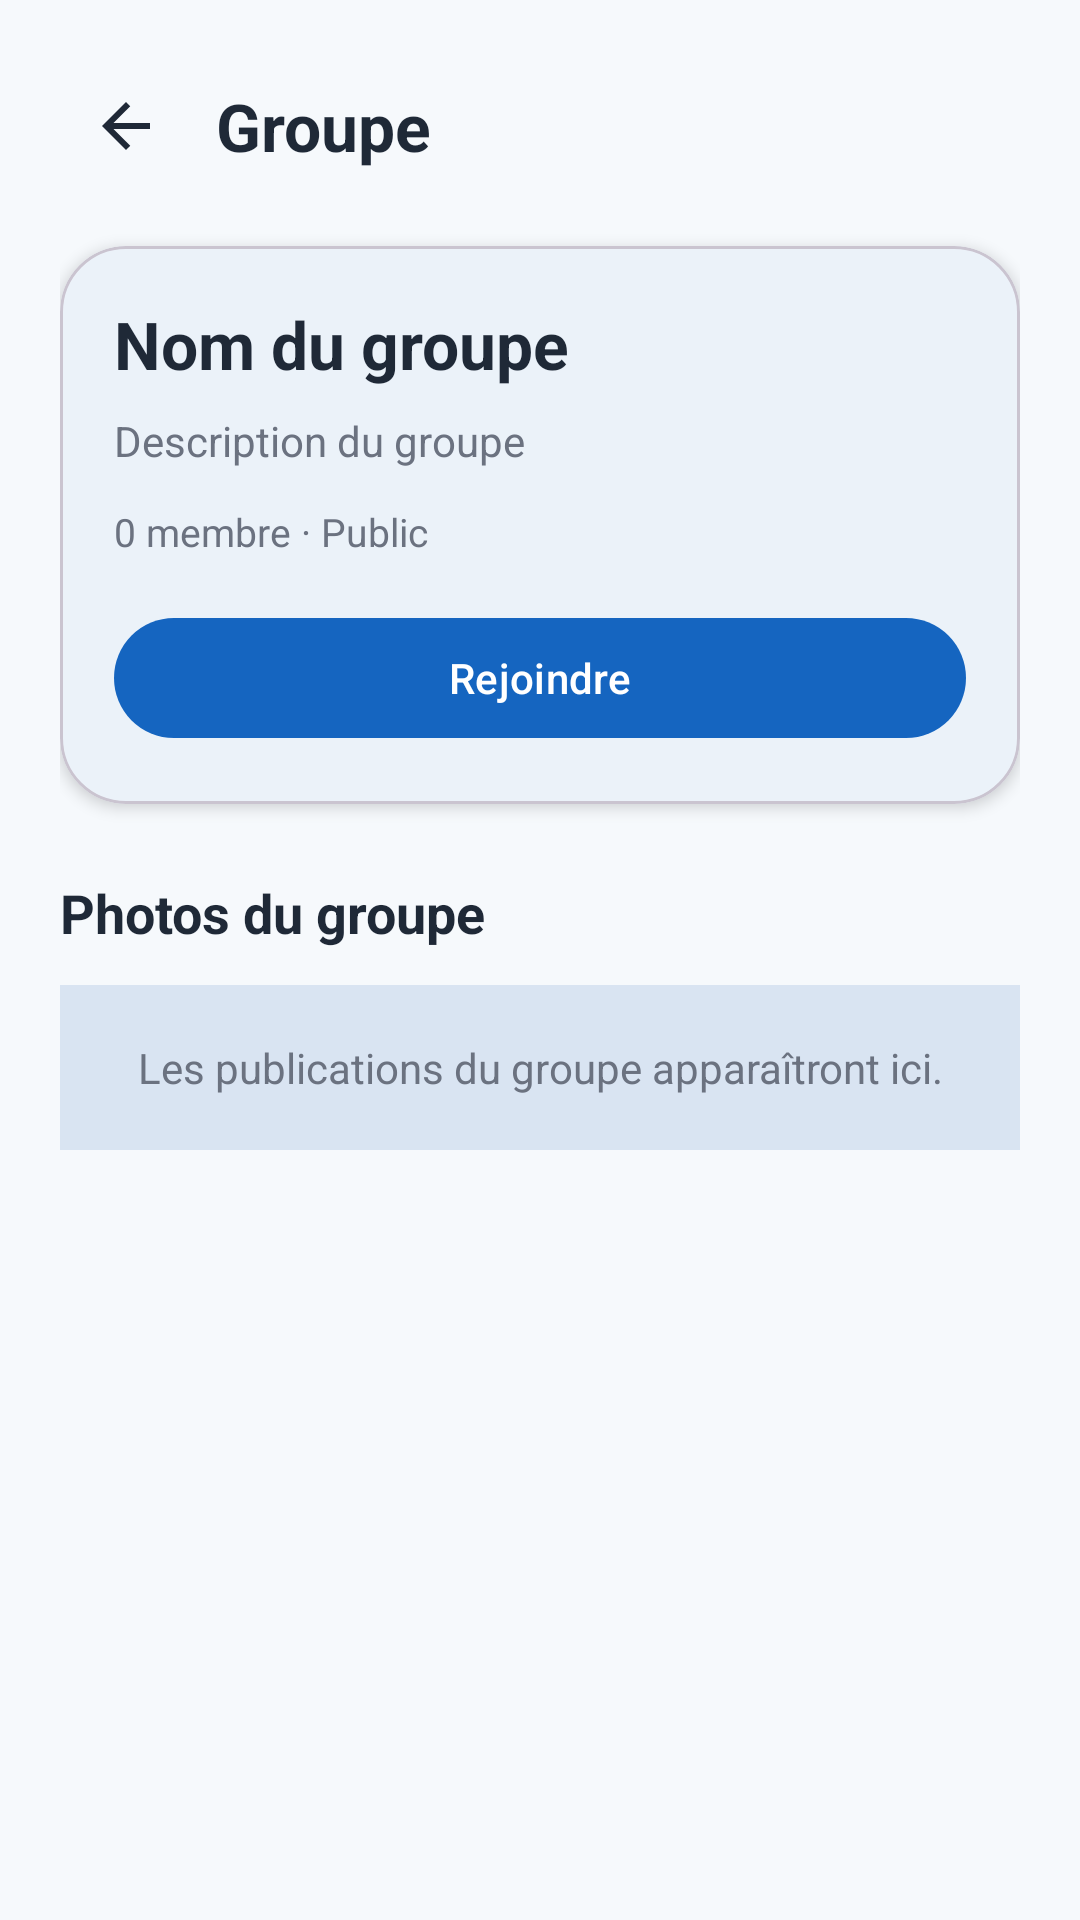

Where icons sit on this 1080×1920 app screen, as {"x1": x1, "y1": y1, "x2": x2, "y2": y2}:
Retour: {"x1": 102, "y1": 102, "x2": 150, "y2": 150}
